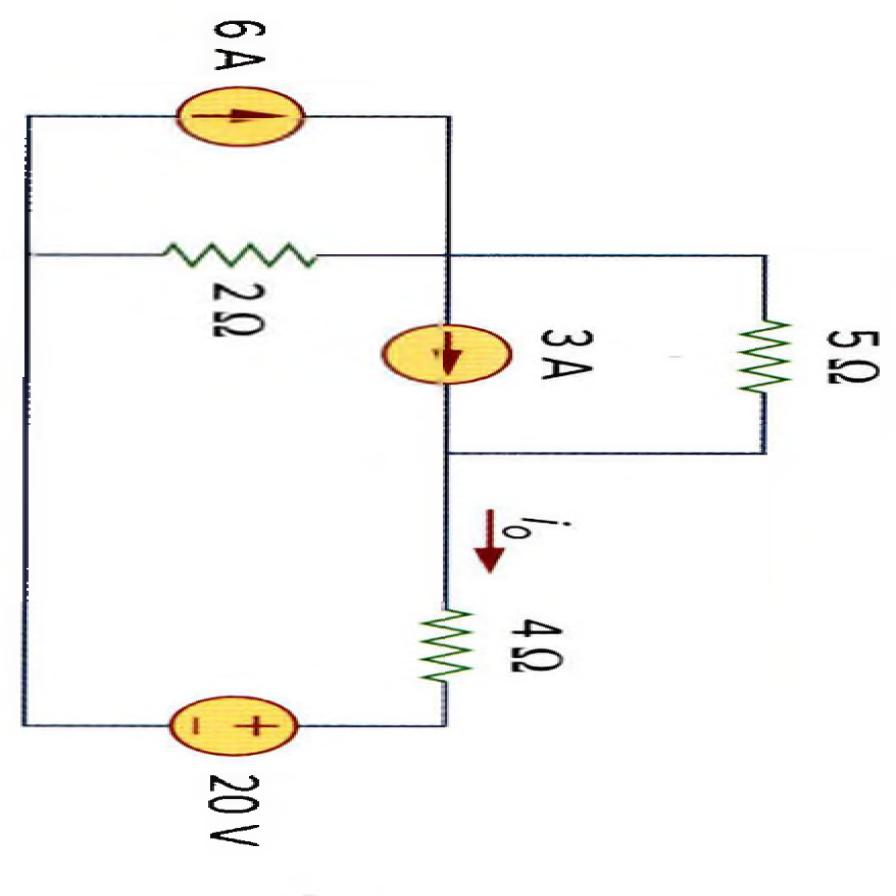I2: (182, 88, 302, 146)
I3: (386, 324, 508, 386)
R2: (388, 595, 491, 689), (709, 313, 809, 405)
V2: (169, 696, 296, 756)
